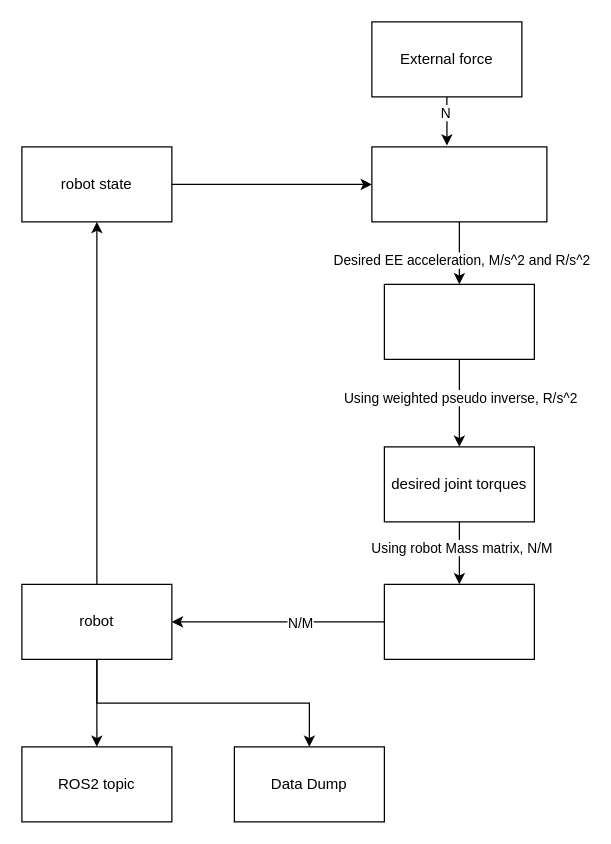
Image size: 611x844. Some labels were removed from this diagram. Here are the shapes that lost their labels. From the top down, the box of each, then its label:
(371, 146, 547, 222): spring/damper control
(383, 283, 534, 359): desired joint accelerations
(383, 583, 534, 659): clamp + corriolis
